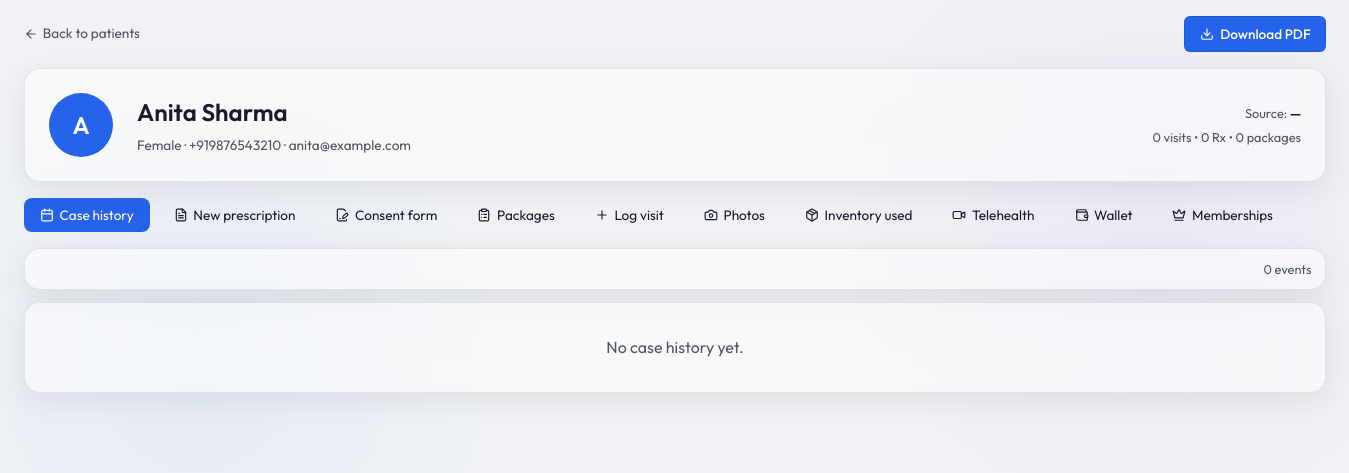
Scenario: <wellness/PatientDetail /> — page surface › renders the Wallet tab and clicking it loads balance + transactions
Expected: the heading "Anita Sharma" is shown, x1=137 y1=97 x2=288 y2=127
Click the button "Wallet".
click(1104, 215)  # box x1=1058 y1=198 x2=1148 y2=232
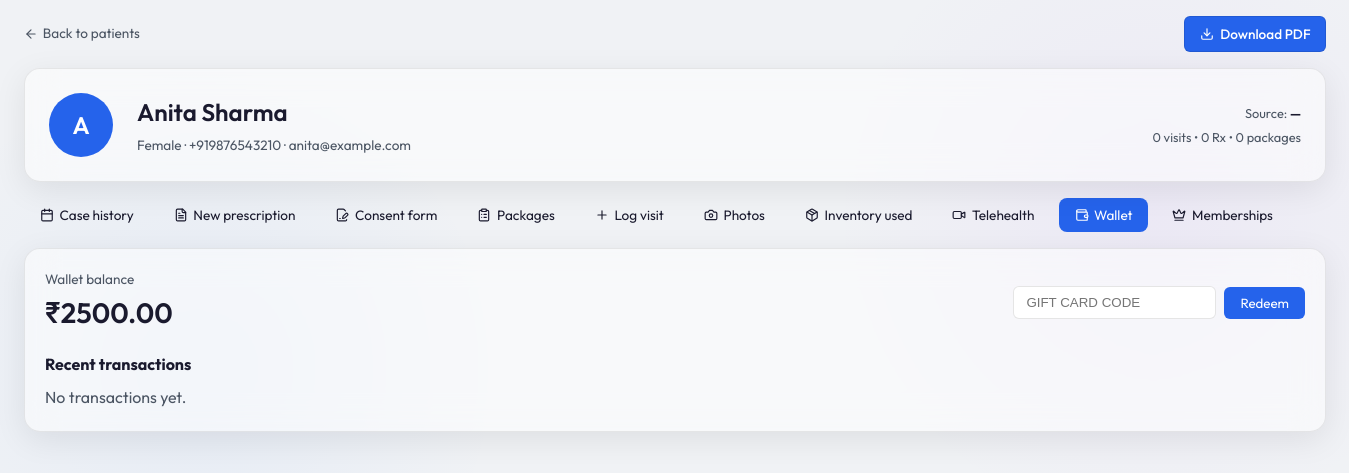
Expected: the text "Wallet balance" is shown, x1=45 y1=270 x2=134 y2=288
